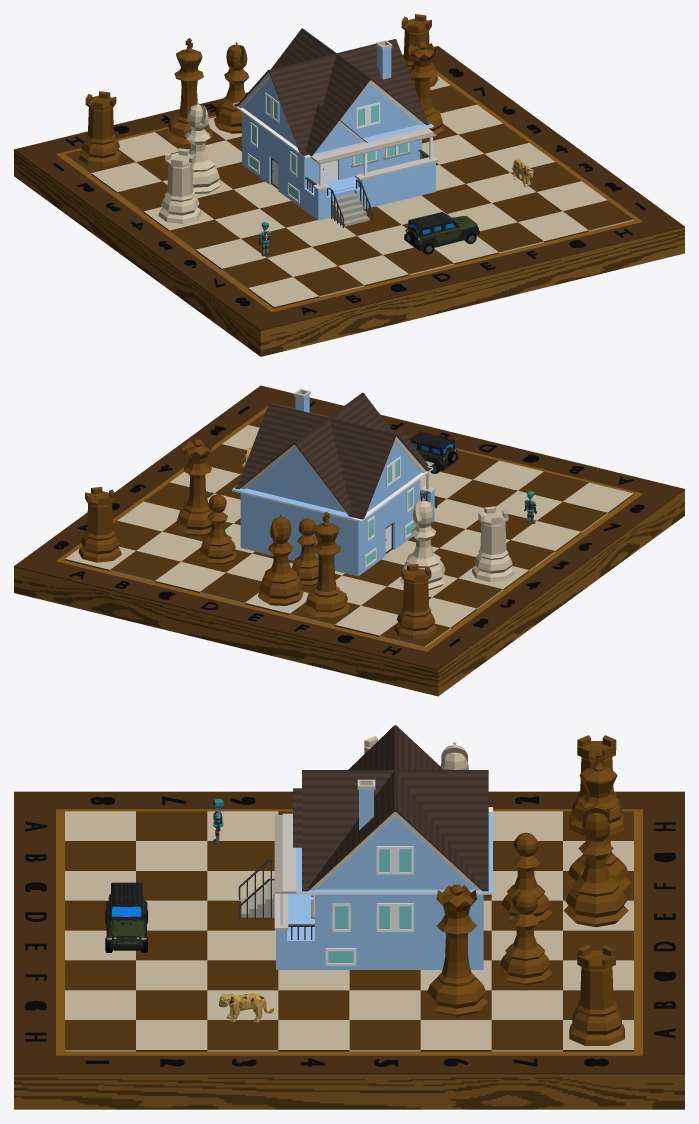
3 renders of one model, top to bottom at view 1: azimuth 30°, elevation 25°; view 2: azimuth 150°, elevation 25°; view 3: azimuth 270°, elevation 25°, orthographic. The views are drawn at different scales.
Parts seen in each view (by area): view 1: Cube.002, Cube.1594, VEHICLES_JEEP; view 2: Cube.002, Cube.1594, VEHICLES_JEEP; view 3: Cube.002, Cube.1594, VEHICLES_JEEP, ANIMAL_JAGUAR.
Boxes of the visible parts, x1=… form: Cube.002: x1=14, y1=14, x2=684, y2=356; Cube.1594: x1=232, y1=28, x2=438, y2=227; VEHICLES_JEEP: x1=404, y1=212, x2=479, y2=254; Cube.002: x1=14, y1=385, x2=684, y2=696; Cube.1594: x1=232, y1=389, x2=437, y2=576; VEHICLES_JEEP: x1=407, y1=431, x2=458, y2=473; Cube.002: x1=14, y1=735, x2=684, y2=1109; Cube.1594: x1=238, y1=725, x2=492, y2=969; VEHICLES_JEEP: x1=105, y1=882, x2=147, y2=952; ANIMAL_JAGUAR: x1=218, y1=993, x2=273, y2=1022.
Size of the model in its own units: 3981 by 1488 by 4012.
Materials: 38 (2 with a texture image).
